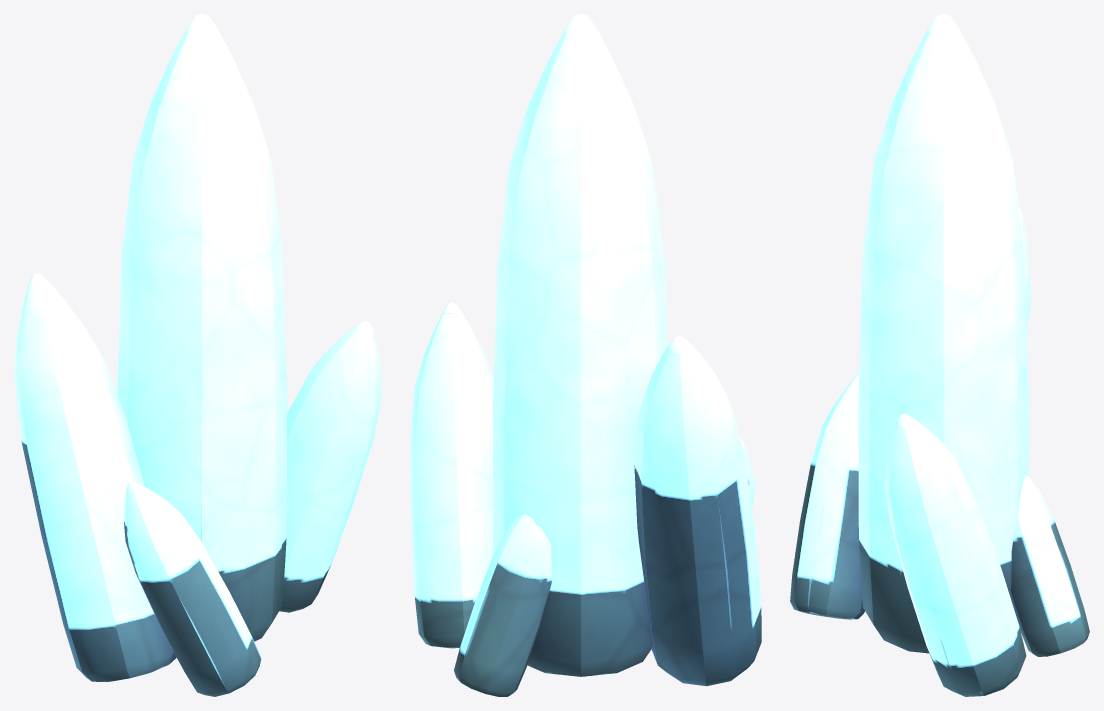
The model's file is WM_IceCrystal_B.fbx.
3 views of the same model, side by side, from view 1: azimuth 30°, elevation 25°; view 2: azimuth 150°, elevation 25°; view 3: azimuth 270°, elevation 25° (orthographic). The views are drawn at different scales.
Parts seen in each view (by area): view 1: WM_IceCrystal_B_LOD0; view 2: WM_IceCrystal_B_LOD0; view 3: WM_IceCrystal_B_LOD0.
Part boxes in pixels (x1,y1,x2,y2): WM_IceCrystal_B_LOD0: (14, 14, 381, 696); WM_IceCrystal_B_LOD0: (410, 14, 761, 696); WM_IceCrystal_B_LOD0: (790, 14, 1089, 696).
Size of what is drawn, in the model's own units: 1.1 by 2 by 0.8658.
